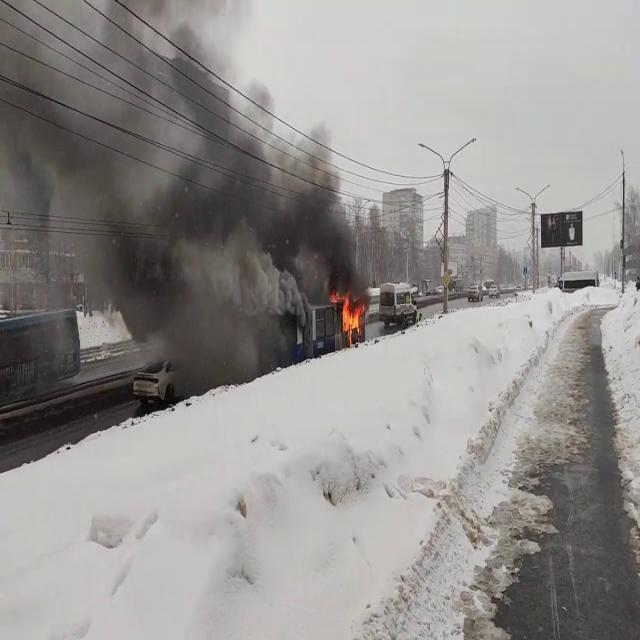Fire: (334, 290, 364, 344)
Smoke: (0, 0, 366, 357)
